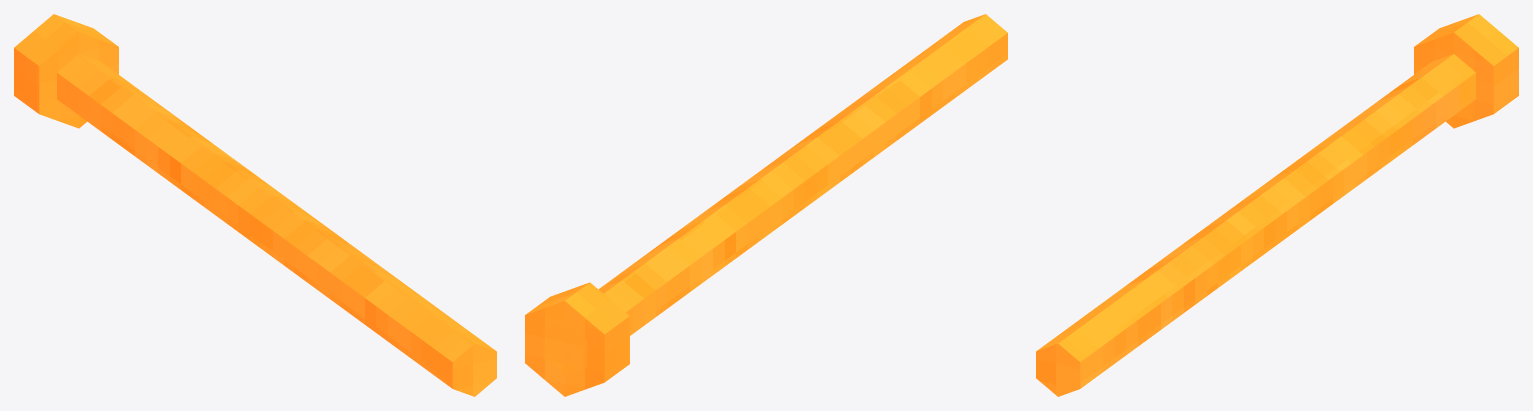
File: fx_flame.glb
The picture shows the model from 3 angles, left to right: view 1: azimuth 30°, elevation 25°; view 2: azimuth 150°, elevation 25°; view 3: azimuth 330°, elevation 25°; orthographic projection.
Parts seen in each view (by area): view 1: fx_flame; view 2: fx_flame; view 3: fx_flame.
Part boxes in pixels (x1,y1,x2,y2): fx_flame: [14, 14, 496, 396]; fx_flame: [525, 14, 1007, 396]; fx_flame: [1036, 14, 1518, 396].
Size of the model in its own units: 0.1091 by 0.126 by 1.
Materials: 1 (1 with a texture image).
